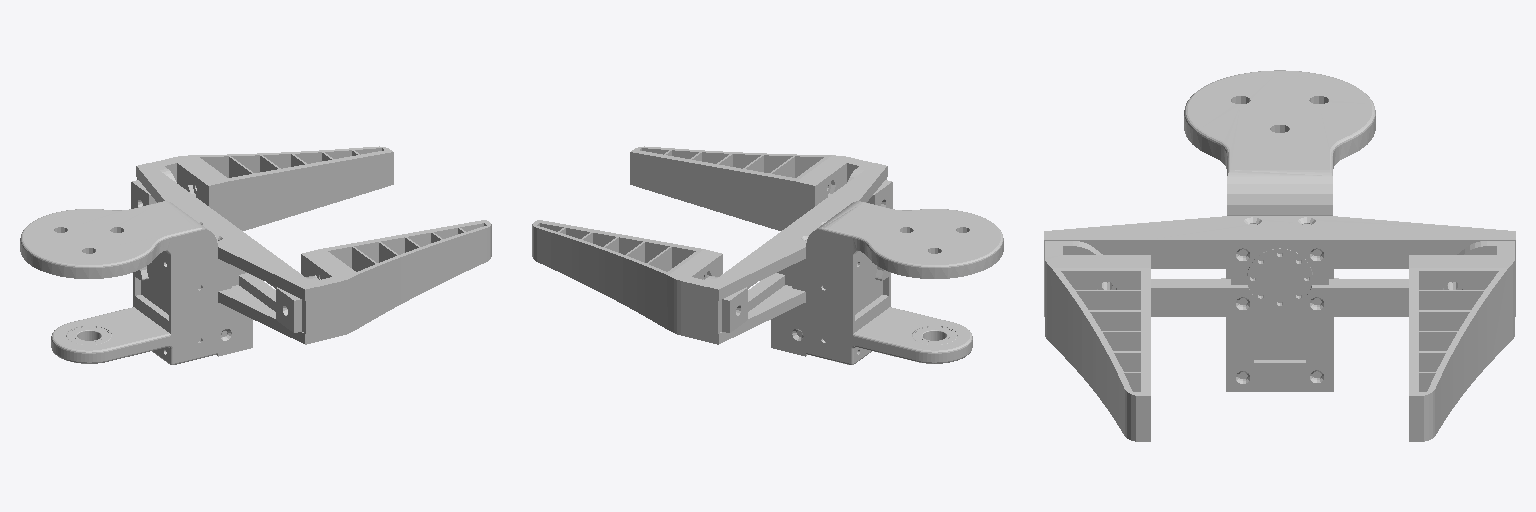
The robot description file, URDF, robot "RobotBimanualV3":
<?xml version="1.0" encoding="utf-8"?>
<!-- This URDF was automatically created by SolidWorks to URDF Exporter! Originally created by [author] ([email redacted]) 
     Commit Version: 1.6.0-4-g7f85cfe  Build Version: 1.6.7995.38578
     For more information, please see http://wiki.ros.org/sw_urdf_exporter -->
<robot
  name="RobotBimanualV3">
  <link
    name="base_link">
    <inertial>
      <origin
        xyz="0.010321 0.00065104 0.5185"
        rpy="0 0 0" />
      <mass
        value="35.545" />
      <inertia
        ixx="1.3259"
        ixy="-1.6443E-06"
        ixz="-0.00012106"
        iyy="1.3119"
        iyz="-1.547E-06"
        izz="0.026428" />
    </inertial>
    <visual>
      <origin
        xyz="0 0 0"
        rpy="0 0 0" />
      <geometry>
        <mesh
          filename="package://RobotBimanualV3/meshes/base_link.obj" />
      </geometry>
      <material
        name="">
        <color
          rgba="0.79216 0.81961 0.93333 1" />
      </material>
    </visual>
    <collision>
      <origin
        xyz="0 0 0"
        rpy="0 0 0" />
      <geometry>
        <mesh
          filename="package://RobotBimanualV3/meshes/base_link_simplified_decomposed.obj" />
      </geometry>
    </collision>
  </link>
  <link
    name="link1">
    <inertial>
      <origin
        xyz="0.00277367 6.161E-05 0.05165334"
        rpy="0 0 0" />
      <mass
        value="0.706" />
      <inertia
        ixx="0.00074611"
        ixy="5.4E-07"
        ixz="5.3E-07"
        iyy="0.00054009"
        iyz="3.26E-06"
        izz="0.00050643" />
    </inertial>
    <visual>
      <origin
        xyz="0 0 0"
        rpy="0 0 0" />
      <geometry>
        <mesh
          filename="package://RobotBimanualV3/meshes/link1.obj" />
      </geometry>
      <material
        name="">
        <color
          rgba="1 1 1 1" />
      </material>
    </visual>
    <collision>
      <origin
        xyz="0 0 0"
        rpy="0 0 0" />
      <geometry>
        <mesh
          filename="package://RobotBimanualV3/meshes/Simplified_link1_decomposed.obj" />
      </geometry>
    </collision>
  </link>
  <joint
    name="joint1"
    type="revolute">
    <origin
      xyz="0.02 0.1037 0.8358"
      rpy="0 0 0" />
    <parent
      link="base_link" />
    <child
      link="link1" />
    <axis
      xyz="0 0 1" />
    <limit
      lower="-1.57079633"
      upper="0.87266463"
      effort="4"
      velocity="2.17" />
  </joint>
  <link
    name="link2">
    <inertial>
      <origin
        xyz="-0.00124394 -5.732E-05 0.0545228"
        rpy="0 0 0" />
      <mass
        value="0.659" />
      <inertia
        ixx="0.00064807"
        ixy="8.3E-07"
        ixz="-4.6E-07"
        iyy="0.00045162"
        iyz="-1.01E-06"
        izz="0.00043422" />
    </inertial>
    <visual>
      <origin
        xyz="0 0 0"
        rpy="0 0 0" />
      <geometry>
        <mesh
          filename="package://RobotBimanualV3/meshes/link2.obj" />
      </geometry>
      <material
        name="">
        <color
          rgba="1 1 1 1" />
      </material>
    </visual>
    <collision>
      <origin
        xyz="0 0 0"
        rpy="0 0 0" />
      <geometry>
        <mesh
          filename="package://RobotBimanualV3/meshes/Simplified_link2_decomposed.obj" />
      </geometry>
    </collision>
  </link>
  <joint
    name="joint2"
    type="revolute">
    <origin
      xyz="-0.020519 0.0080718 0.0528"
      rpy="-1.5708 0 1.5708" />
    <parent
      link="link1" />
    <child
      link="link2" />
    <axis
      xyz="0 0 1" />
    <limit
      lower="-0.87266463"
      upper="0.87266463"
      effort="4"
      velocity="2.17" />
  </joint>
  <link
    name="link3">
    <inertial>
      <origin
        xyz="-0.03505493 -0.006151 0.05438578"
        rpy="0 0 0" />
      <mass
        value="1.095" />
      <inertia
        ixx="0.00161847"
        ixy="0.00042205"
        ixz="-0.00104433"
        iyy="0.0066165"
        iyz="-0.0001917"
        izz="0.00653551" />
    </inertial>
    <visual>
      <origin
        xyz="0 0 0"
        rpy="0 0 0" />
      <geometry>
        <mesh
          filename="package://RobotBimanualV3/meshes/link3.obj" />
      </geometry>
      <material
        name="">
        <color
          rgba="0.79216 0.81961 0.93333 1" />
      </material>
    </visual>
    <collision>
      <origin
        xyz="0 0 0"
        rpy="0 0 0" />
      <geometry>
        <mesh
          filename="package://RobotBimanualV3/meshes/Simplified_link3_decomposed.obj" />
      </geometry>
    </collision>
  </link>
  <joint
    name="joint3"
    type="revolute">
    <origin
      xyz="0.014928 0 0.058031"
      rpy="-1.5708 0 -1.5708" />
    <parent
      link="link2" />
    <child
      link="link3" />
    <axis
      xyz="0 0 1" />
    <limit
      lower="-3.14159265"
      upper="0.87266463"
      effort="4"
      velocity="2.17" />
  </joint>
  <link
    name="link4">
    <inertial>
      <origin
        xyz="-0.00914828 -0.00042727 -7.12E-06"
        rpy="0 0 0" />
      <mass
        value="0.268" />
      <inertia
        ixx="9.136E-05"
        ixy="7E-08"
        ixz="-2E-08"
        iyy="0.00013894"
        iyz="0"
        izz="0.00013031" />
    </inertial>
    <visual>
      <origin
        xyz="0 0 0"
        rpy="0 0 0" />
      <geometry>
        <mesh
          filename="package://RobotBimanualV3/meshes/link4.obj" />
      </geometry>
      <material
        name="">
        <color
          rgba="0.79216 0.81961 0.93333 1" />
      </material>
    </visual>
    <collision>
      <origin
        xyz="0 0 0"
        rpy="0 0 0" />
      <geometry>
        <mesh
          filename="package://RobotBimanualV3/meshes/Simplified_link4_decomposed.obj" />
      </geometry>
    </collision>
  </link>
  <joint
    name="joint4"
    type="revolute">
    <origin
      xyz="-0.25 0 0.08318"
      rpy="0 0 1.5708" />
    <parent
      link="link3" />
    <child
      link="link4" />
    <axis
      xyz="0 0 1" />
    <limit
      lower="-0.78539816"
      upper="1.30899694"
      effort="4"
      velocity="2.17" />
  </joint>
  <link
    name="link5">
    <inertial>
      <origin
        xyz="-0.00143459 -5.019E-05 0.22261684"
        rpy="0 0 0" />
      <mass
        value="0.285" />
      <inertia
        ixx="0.00170458"
        ixy="1.5E-07"
        ixz="-2.111E-05"
        iyy="0.00168732"
        iyz="-5.6E-07"
        izz="7.029E-05" />
    </inertial>
    <visual>
      <origin
        xyz="0 0 0"
        rpy="0 0 0" />
      <geometry>
        <mesh
          filename="package://RobotBimanualV3/meshes/link5.obj" scale="0.9 0.9 1" />
      </geometry>
      <material
        name="">
        <color
          rgba="0.79216 0.81961 0.93333 1" />
      </material>
    </visual>
    <collision>
      <origin
        xyz="0 0 0"
        rpy="0 0 0" />
      <geometry>
        <mesh
          filename="package://RobotBimanualV3/meshes/Simplified_link5_decomposed.obj" scale="0.9 0.9 1"  />
      </geometry>
    </collision>
  </link>
  <joint
    name="joint5"
    type="revolute">
    <origin
      xyz="0.014 0 0"
      rpy="-1.5708 0 -1.5708" />
    <parent
      link="link4" />
    <child
      link="link5" />
    <axis
      xyz="0 0 1" />
    <limit
      lower="-1.91986218"
      upper="3.66519143"
      effort="1"
      velocity="2.17" />
  </joint>
  <link
    name="link6">
    <inertial>
      <origin
        xyz="0 0.05222536 -0.0188198"
        rpy="0 0 0" />
      <mass
        value="0.201" />
      <inertia
        ixx="0.00024939"
        ixy="0"
        ixz="0"
        iyy="0.0002157"
        iyz="-6.26E-06"
        izz="0.00036328" />
    </inertial>
    <visual>
      <origin
        xyz="0 0 0"
        rpy="0 0 0" />
      <geometry>
        <mesh
          filename="package://RobotBimanualV3/meshes/link6.obj" />
      </geometry>
      <material
        name="">
        <color
          rgba="0.82353 0.82353 0.82353 1" />
      </material>
    </visual>
    <collision>
      <origin
        xyz="0 0 0"
        rpy="0 0 0" />
      <geometry>
        <mesh
          filename="package://RobotBimanualV3/meshes/Simplified_link6_decomposed.obj" />
      </geometry>
    </collision>
  </link>
  <joint
    name="joint6"
    type="revolute">
    <origin
      xyz="0.01415 0 0.2633"
      rpy="1.5708 0 1.5708" />
    <parent
      link="link5" />
    <child
      link="link6" />
    <axis
      xyz="0 0 1" />
    <limit
      lower="-2.0944"
      upper="2.0944"
      effort="1"
      velocity="2.17" />
  </joint>
  <link name="tool1">
    <inertial>
      <origin
        xyz="0 0 0"
        rpy="0 0 0" />
      <mass
        value="0" />
      <inertia
        ixx="0"
        ixy="0"
        ixz="0"
        iyy="0"
        iyz="0"
        izz="0" />
    </inertial>
  </link>
  <joint name="tool1_frame" type="fixed">
    <origin xyz="0.0 0.16764 -0.01415" rpy="0 0 0" />
    <parent link="link6" />
    <child link="tool1" />
  </joint>
</robot>

--- What the picture shows (computed from the rendered views, not written in the file) ---
3 views of the same robot in one strip: view 1: azimuth 30°, elevation 25°; view 2: azimuth 150°, elevation 25°; view 3: azimuth 270°, elevation 25° (orthographic).
Robot: RobotBimanualV3 — 8 links, 7 joints (6 revolute, 1 fixed); root link base_link; default pose: every joint at zero.
Links seen in each view (by area): view 1: link6; view 2: link6; view 3: link6.
Link boxes in pixels (x1,y1,x2,y2): link6: (20, 146, 491, 364); link6: (532, 146, 1003, 364); link6: (1044, 70, 1515, 441).
Bounding box of the posed robot: 0.1961 × 0.14 × 0.0604 m (x, y, z).
Meshes: 7 distinct files referenced, 1 mesh visuals loaded (1 OBJ); not drawn: 6 (reference not matched to a file when rendering).